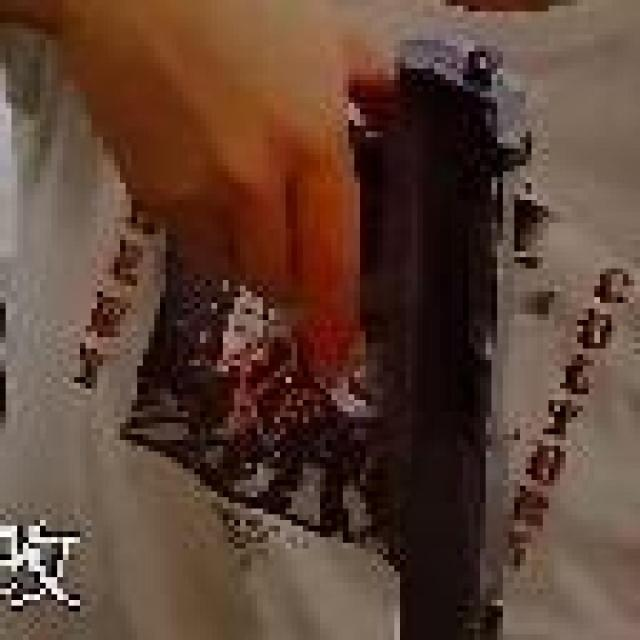pistol: (265, 35, 593, 640)
